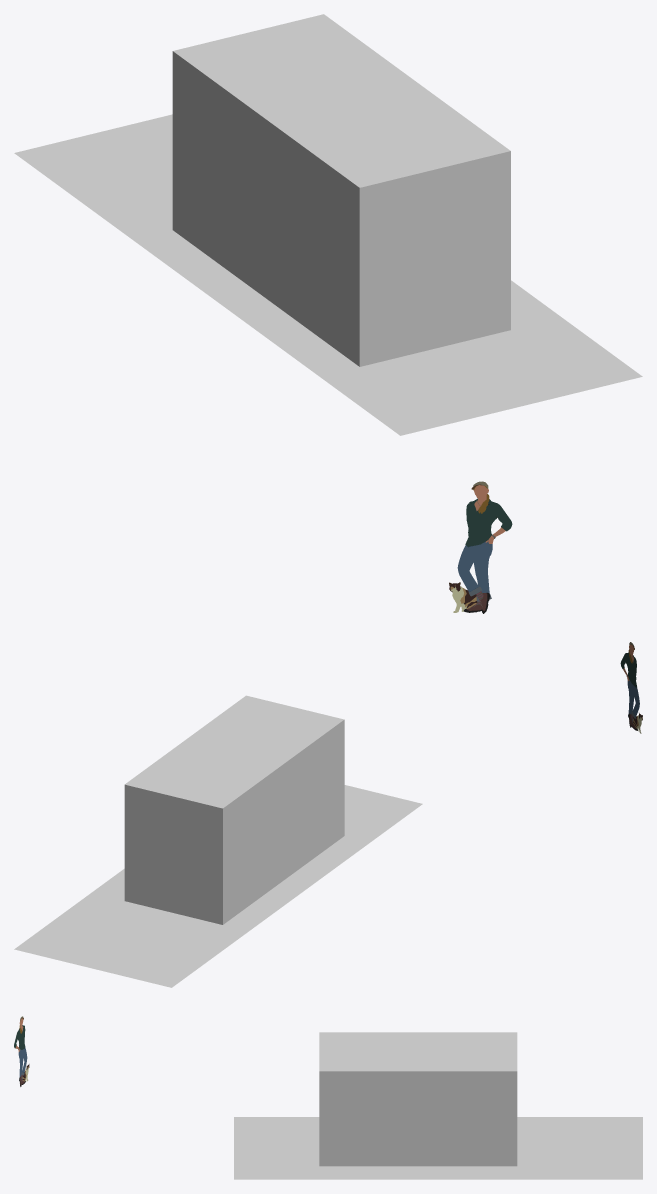
The model's file is projeto.dae.
3 renders of one model, top to bottom at view 1: azimuth 30°, elevation 25°; view 2: azimuth 150°, elevation 25°; view 3: azimuth 270°, elevation 25°, orthographic. The views are drawn at different scales.
Parts seen in each view (by area): view 1: edificacao, delimitador, Heather (×2); view 2: edificacao, delimitador; view 3: edificacao, delimitador.
Part boxes in pixels (x1=…): edificacao: x1=172, y1=14, x2=510, y2=366; delimitador: x1=14, y1=114, x2=642, y2=435; Heather (×2): x1=457, y1=498, x2=512, y2=594; edificacao: x1=124, y1=695, x2=344, y2=924; delimitador: x1=14, y1=785, x2=422, y2=987; edificacao: x1=319, y1=1032, x2=517, y2=1166; delimitador: x1=234, y1=1117, x2=642, y2=1179.
Size of the model in its own units: 199 by 528 by 88.68.
